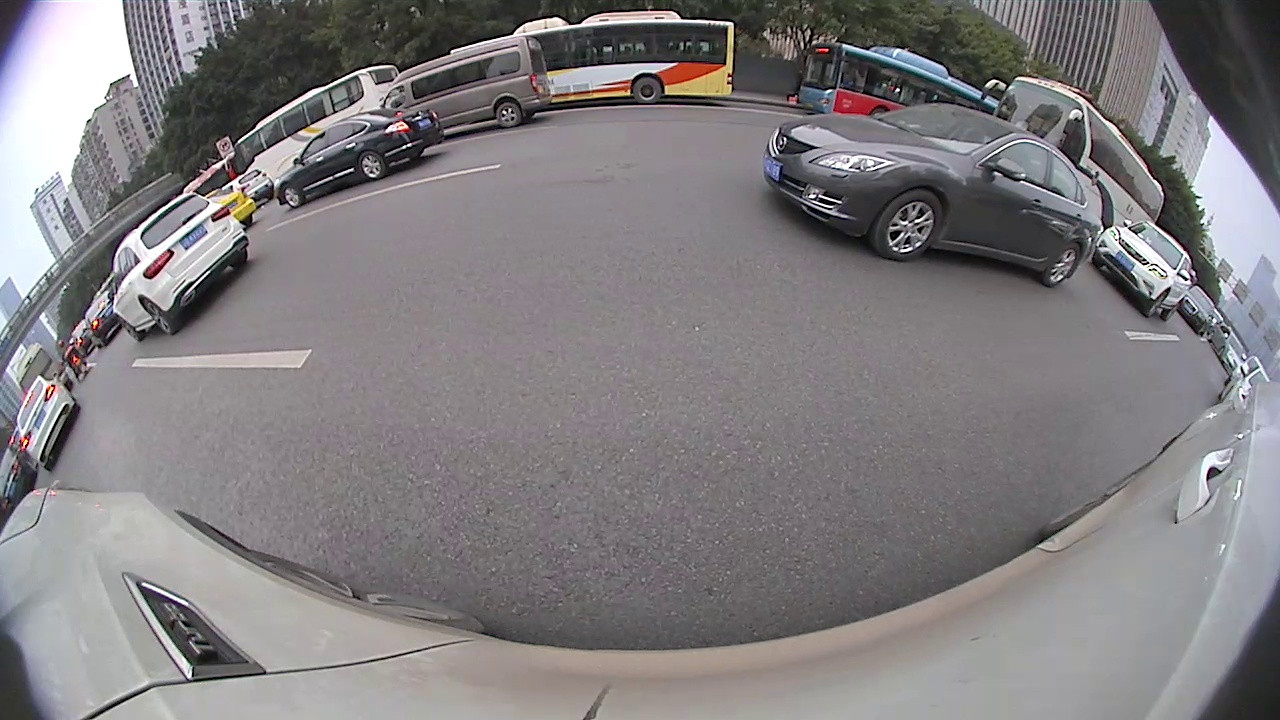bus: (980, 71, 1167, 228), (451, 11, 734, 107), (235, 60, 399, 177), (795, 39, 1003, 120), (9, 342, 69, 400)
car: (759, 98, 1099, 288), (108, 190, 253, 340), (272, 106, 445, 212), (380, 33, 564, 132), (1090, 215, 1194, 322), (13, 371, 78, 466), (82, 293, 136, 346), (1224, 353, 1272, 406), (0, 446, 39, 511), (200, 187, 260, 228), (1211, 322, 1247, 383), (1175, 284, 1213, 340), (216, 171, 280, 202)
front: (872, 191, 944, 261), (115, 314, 146, 340), (1144, 291, 1169, 316), (280, 184, 302, 207)
rear: (1044, 244, 1079, 285), (143, 298, 175, 333), (632, 77, 661, 104), (358, 152, 387, 178), (496, 102, 519, 128), (1162, 300, 1182, 318)
rider: (55, 341, 92, 381)
